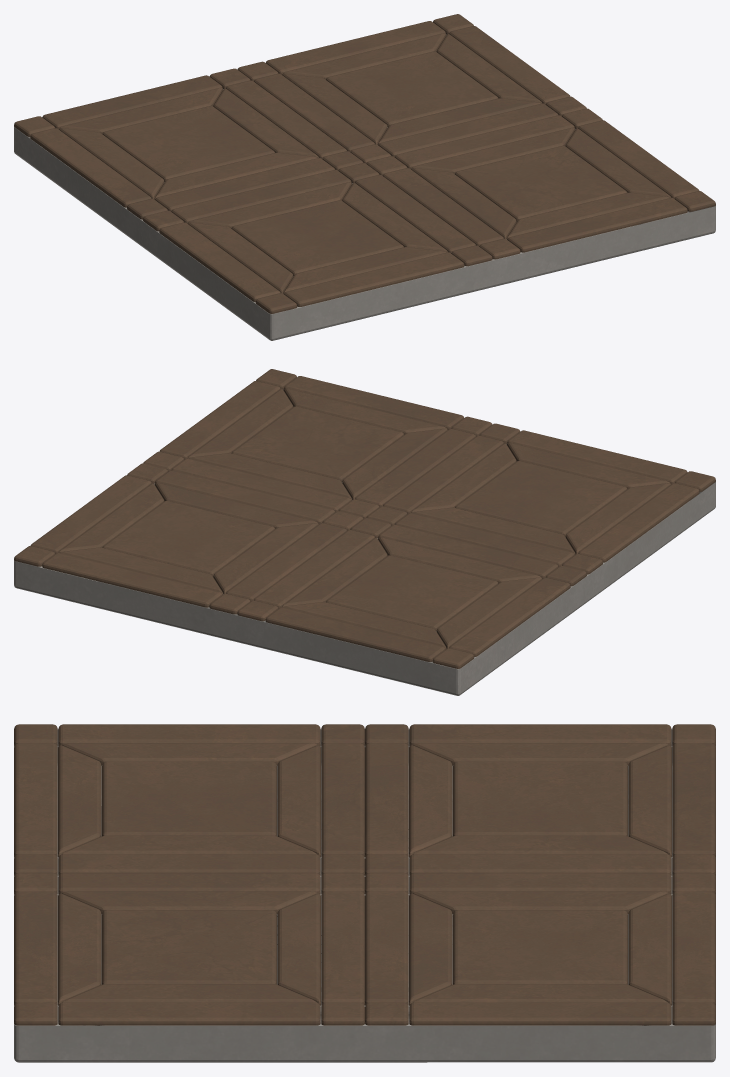
Rendered from SK4 CEILING SMALL.fbx.
The picture shows the model from 3 angles, top to bottom: view 1: azimuth 30°, elevation 25°; view 2: azimuth 150°, elevation 25°; view 3: azimuth 270°, elevation 25°; orthographic projection. The views are drawn at different scales.
Visible parts, largest first — view 1: SK4 CEILING SMALL; view 2: SK4 CEILING SMALL; view 3: SK4 CEILING SMALL.
Part boxes in pixels (left/top/right/bottom): SK4 CEILING SMALL: left=14, top=14, right=715, bottom=340; SK4 CEILING SMALL: left=14, top=369, right=715, bottom=695; SK4 CEILING SMALL: left=14, top=724, right=715, bottom=1062.
Size of the model in its own units: 200 by 16.64 by 200.
